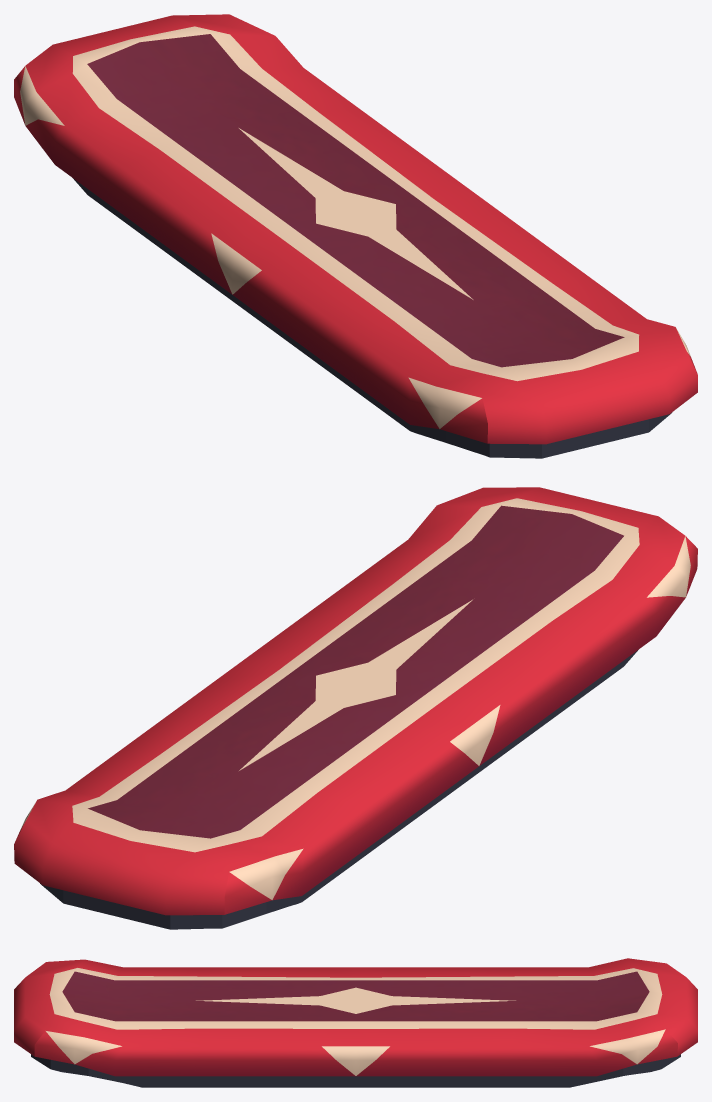
File: hoveboard_final.fbx
The picture shows the model from 3 angles, top to bottom: view 1: azimuth 30°, elevation 25°; view 2: azimuth 150°, elevation 25°; view 3: azimuth 270°, elevation 25°; orthographic projection. The views are drawn at different scales.
Parts seen in each view (by area): view 1: hoverboard; view 2: hoverboard; view 3: hoverboard.
Boxes of the visible parts, bbox=[...] form: hoverboard: bbox=[14, 14, 697, 458]; hoverboard: bbox=[14, 487, 697, 929]; hoverboard: bbox=[14, 958, 697, 1087].
Bounding box in the file's own units: 56.57 × 20.47 × 200.
